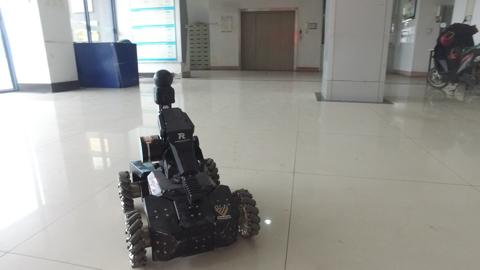chariot: (90, 67, 277, 270)
